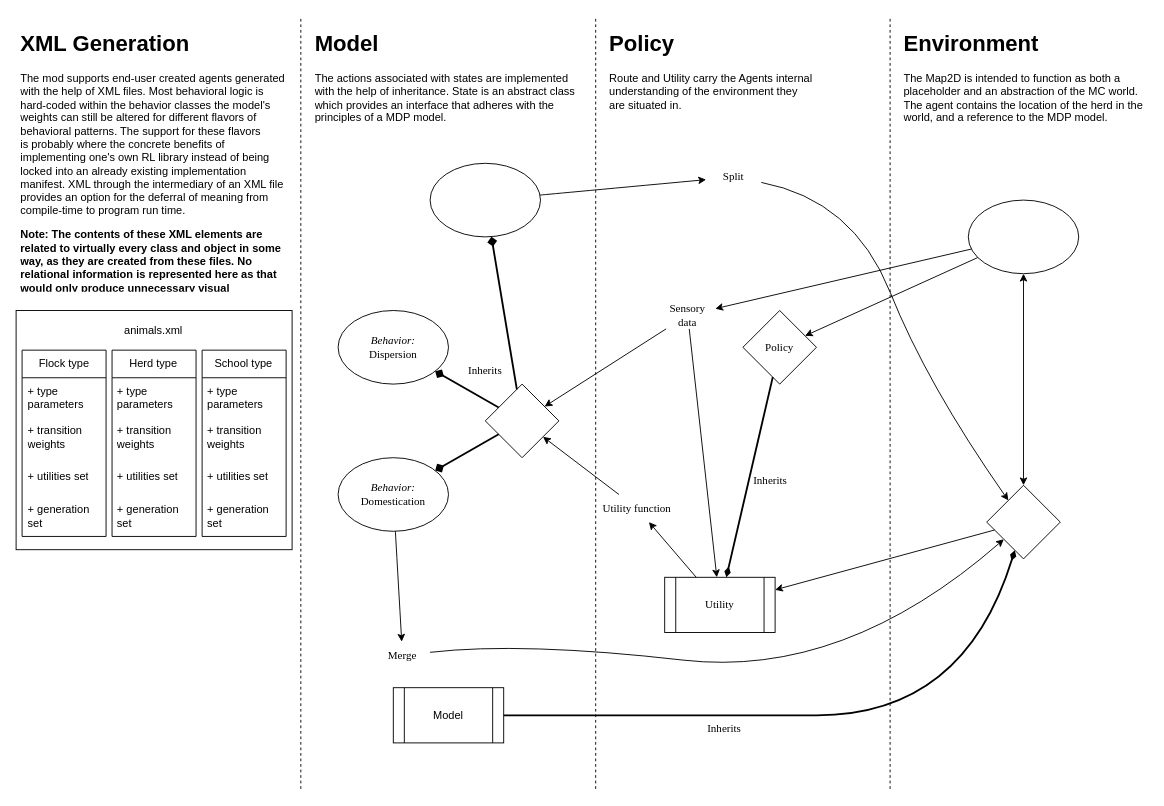
Some shapes in this 1164 by 806 pixel diagram are drawn without their labels. Here are the shapes that lost their labels. From the top down, the centre of each, then its label:
At (484,199): "Behavior: Roaming".
At (1023,236): "Map2D & MC World".
At (521,420): "State".
At (1023,521): "Agent".
